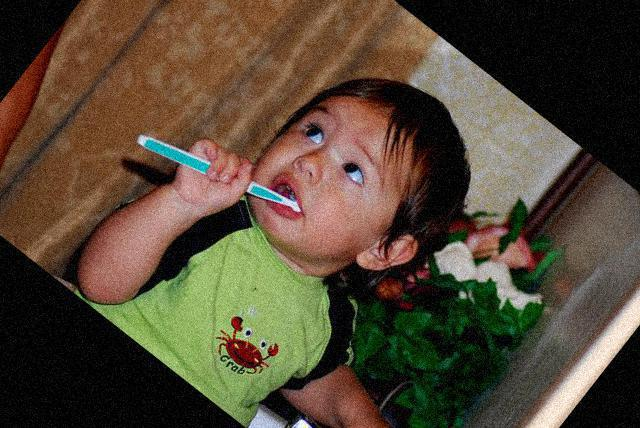Lavamanos: (186, 311, 462, 428)
